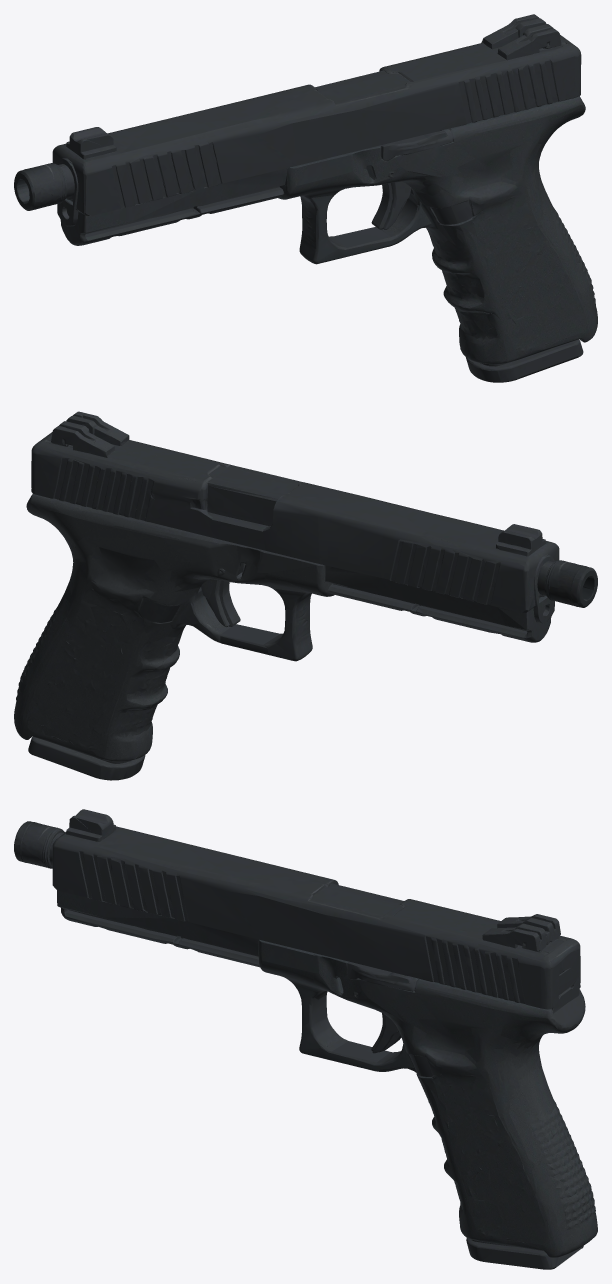
File: glock.glb
3 views of the same model, one above another, from view 1: azimuth 30°, elevation 25°; view 2: azimuth 150°, elevation 25°; view 3: azimuth 330°, elevation 25° (orthographic).
Size of the model in its own units: 1.9 by 1.08 by 0.2562.
Materials: 1 (1 with a texture image).
